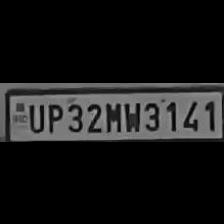1: (200, 96, 218, 130), (162, 97, 178, 130)
2: (84, 98, 104, 132)
3: (64, 100, 84, 132), (141, 99, 161, 131)
4: (180, 96, 200, 130)
M: (102, 98, 122, 132)
P: (44, 100, 64, 132)
U: (26, 100, 44, 132)
W: (122, 98, 140, 132)
